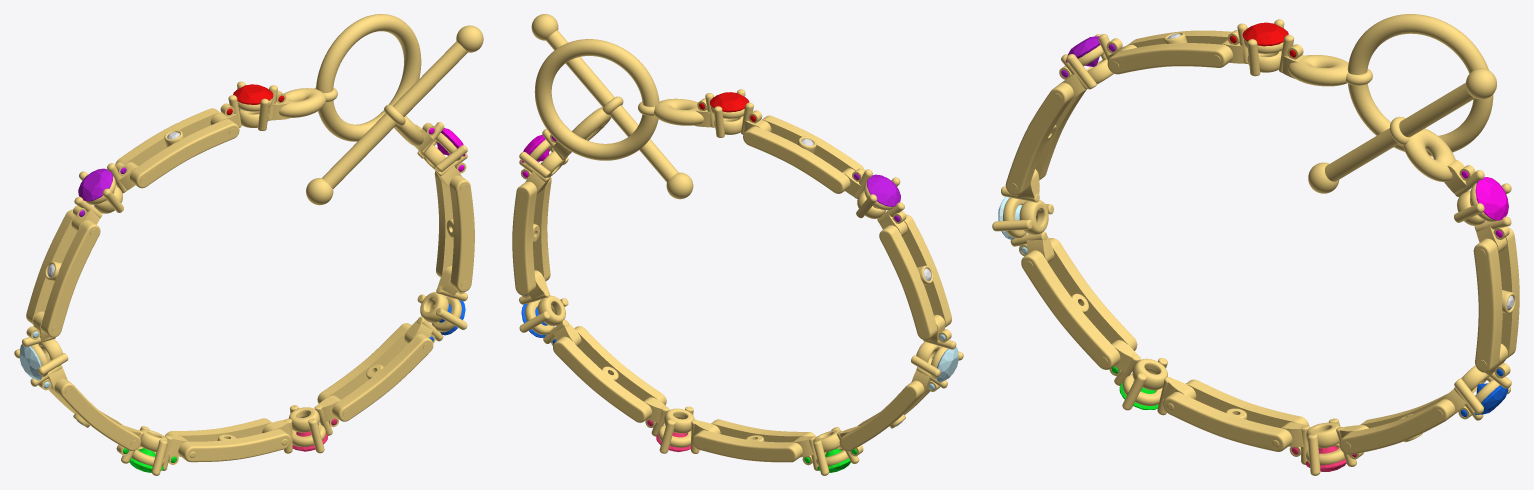
File: DeanYGbracelet.glb
The picture shows the model from 3 angles, left to right: view 1: azimuth 30°, elevation 25°; view 2: azimuth 150°, elevation 25°; view 3: azimuth 330°, elevation 25°; orthographic projection. The views are drawn at different scales.
Visible parts, largest first — view 1: Dean YG for 3d model, Dean amethyst for 3d model.002, Dean pyrope garnet for 3d model, Dean aquamarine for 3d model.002; view 2: Dean YG for 3d model, Dean amethyst for 3d model.002, Dean pyrope garnet for 3d model, Dean aquamarine for 3d model.002; view 3: Dean YG for 3d model, Dean pink sapphire for 3d model.002, Dean pyrope garnet for 3d model.
Part boxes in pixels (bbox=[...]): Dean YG for 3d model: bbox=[14, 14, 483, 475]; Dean amethyst for 3d model.002: bbox=[78, 168, 112, 201]; Dean pyrope garnet for 3d model: bbox=[226, 84, 284, 114]; Dean aquamarine for 3d model.002: bbox=[19, 344, 46, 380]; Dean YG for 3d model: bbox=[512, 14, 963, 475]; Dean amethyst for 3d model.002: bbox=[867, 174, 900, 206]; Dean pyrope garnet for 3d model: bbox=[699, 92, 756, 121]; Dean aquamarine for 3d model.002: bbox=[932, 347, 958, 382]; Dean YG for 3d model: bbox=[992, 14, 1519, 475]; Dean pink sapphire for 3d model.002: bbox=[1475, 177, 1508, 220]; Dean pyrope garnet for 3d model: bbox=[1229, 22, 1296, 57].
Size of the model in its own units: 76.74 by 66.93 by 12.14.
